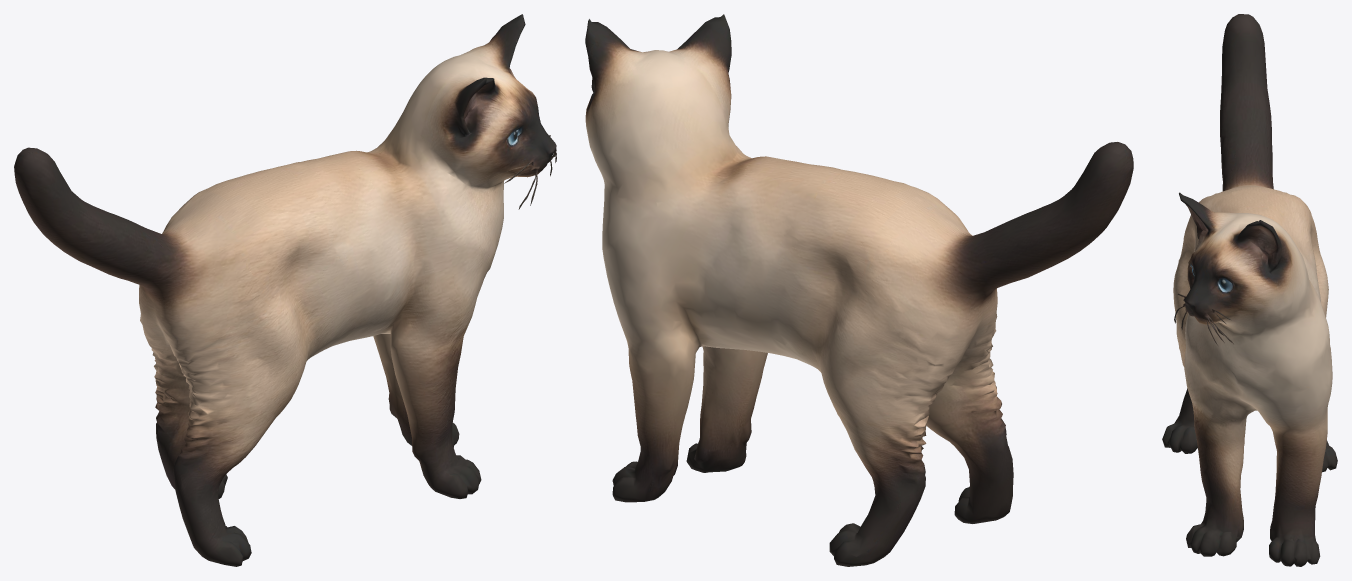
Rendered from VIGNETPAW.glb.
3 views of the same model, side by side, from view 1: azimuth 30°, elevation 25°; view 2: azimuth 150°, elevation 25°; view 3: azimuth 270°, elevation 25° (orthographic). The views are drawn at different scales.
Parts seen in each view (by area): view 1: tripo_node_40842747-f680-4449-9d99-7efc51d4d30a; view 2: tripo_node_40842747-f680-4449-9d99-7efc51d4d30a; view 3: tripo_node_40842747-f680-4449-9d99-7efc51d4d30a.
Part boxes in pixels (box(x1,y1,x2,y2)): tripo_node_40842747-f680-4449-9d99-7efc51d4d30a: box(14, 14, 556, 566); tripo_node_40842747-f680-4449-9d99-7efc51d4d30a: box(585, 14, 1133, 566); tripo_node_40842747-f680-4449-9d99-7efc51d4d30a: box(1162, 14, 1337, 566).
Bounding box in the file's own units: 1.28 × 1 × 0.4298.
Materials: 1 (1 with a texture image).
